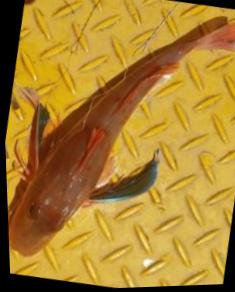fish: (6, 20, 235, 257)
